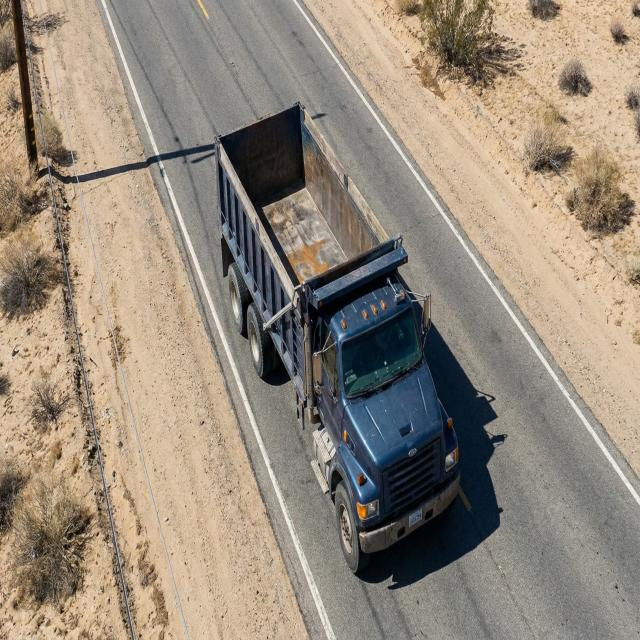trailer: (214, 107, 409, 301)
truck: (206, 94, 461, 572)
